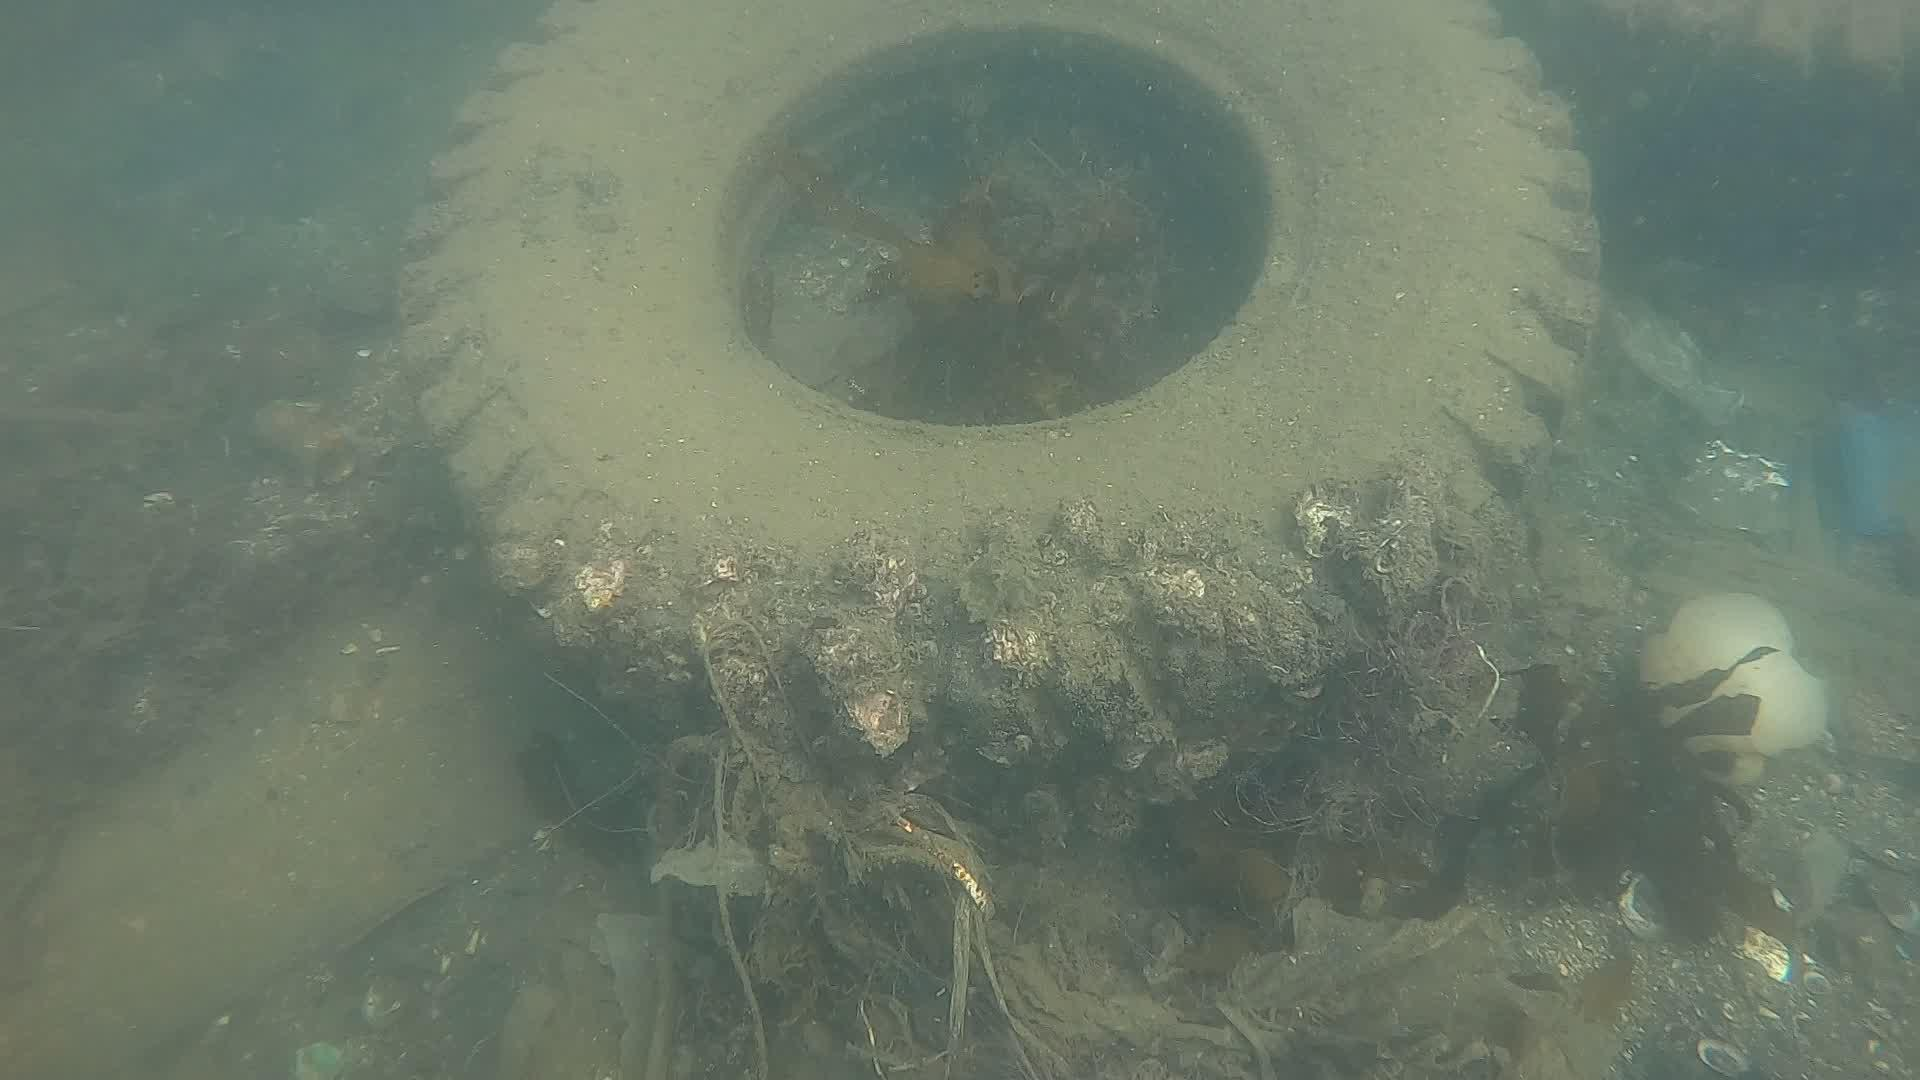tire: (389, 0, 1601, 551)
